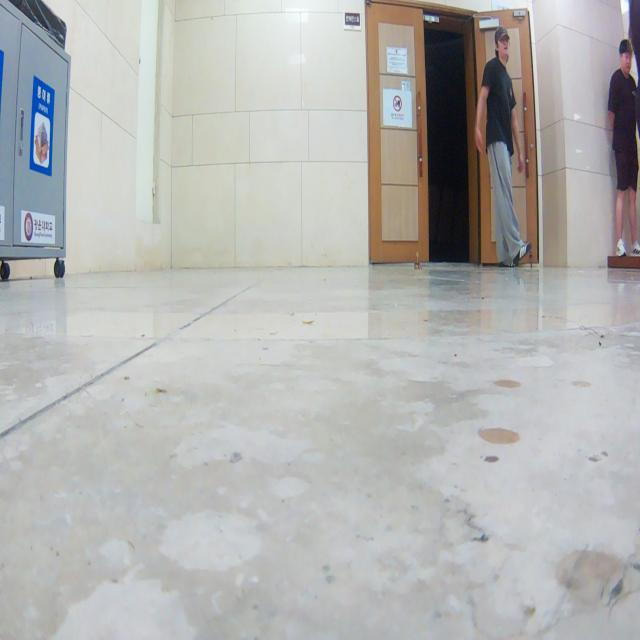target: (414, 250, 421, 272)
